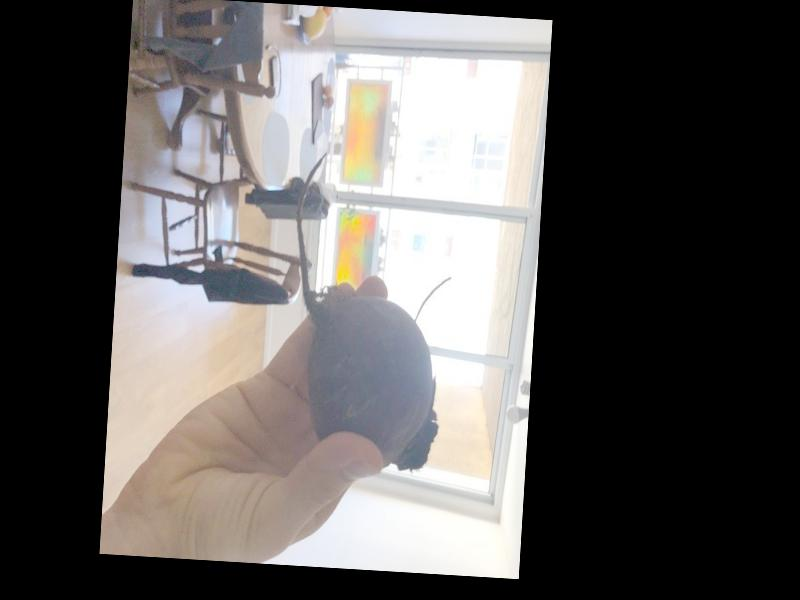Beet: (282, 151, 456, 472)
